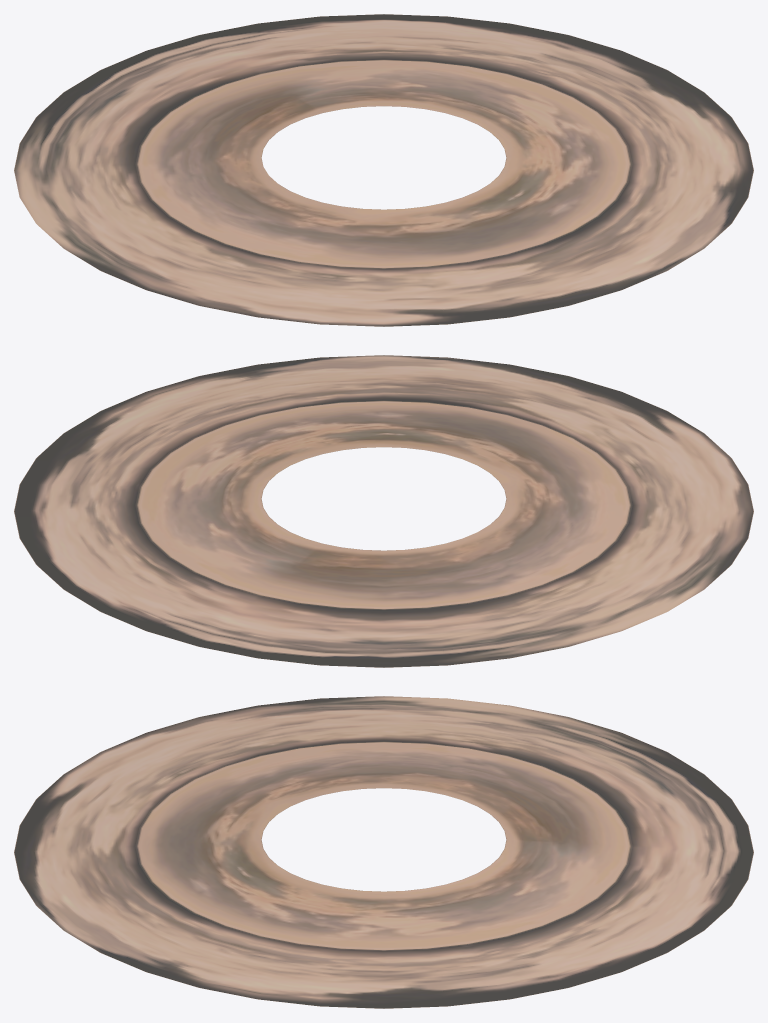
3 views of the same model, one above another, from view 1: azimuth 30°, elevation 25°; view 2: azimuth 150°, elevation 25°; view 3: azimuth 270°, elevation 25° (orthographic).
Parts seen in each view (by area): view 1: Tube01; view 2: Tube01; view 3: Tube01.
Boxes of the visible parts, box(x1,y1,x2,y2) form: Tube01: box(14, 14, 753, 326); Tube01: box(14, 355, 753, 667); Tube01: box(14, 696, 753, 1008).
Bounding box in the file's own units: 65.5 × 65.51 × 1.23.
